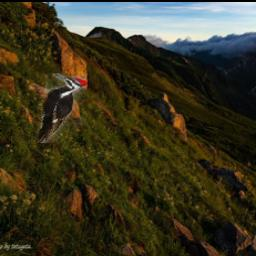Woodpecker: (39, 73, 89, 143)
